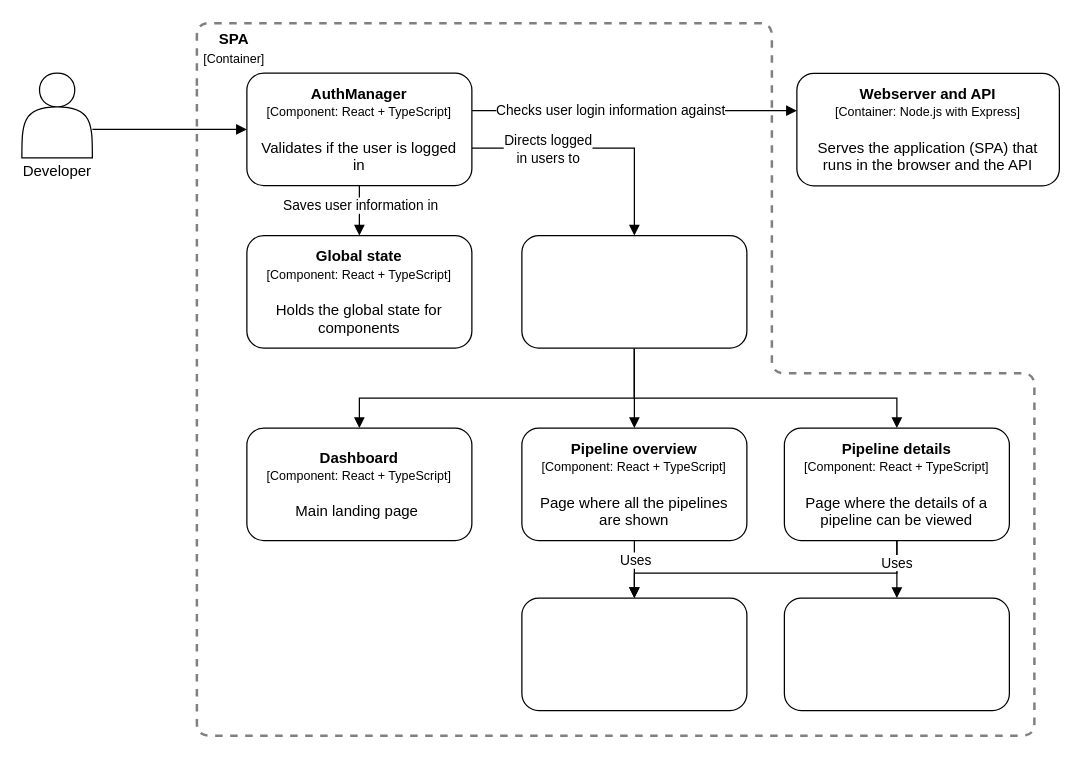
The diagram is 1081 pixels wide and 759 high, and some of its shapes have lost their labels. Here are the shapes that lost their labels. From the top down, the centre of each, then its label:
the point at 634,291: Router [Component: React + TypeScript] Routes the user to the correct component
the point at 634,654: Delete pipeline [Component: React + TypeScript] Component to update a pipeline
the point at 896,654: Update pipeline [Component: React + TypeScript] Component to update a pipeline
